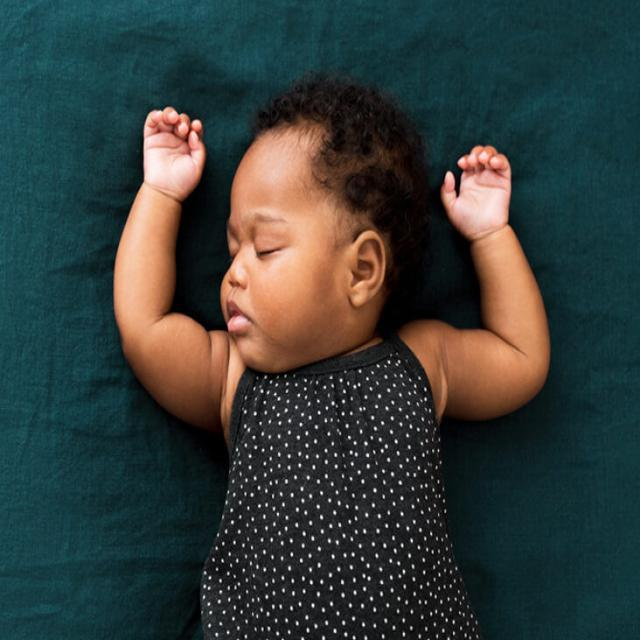non-dog: (111, 72, 553, 640)
